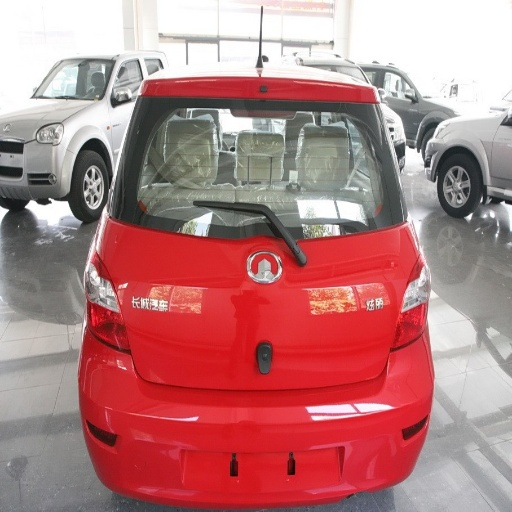back_bumper: (77, 309, 433, 511)
back_right_light: (394, 262, 429, 348)
front_glass: (36, 60, 108, 99)
front_left_door: (109, 59, 135, 134)
tailgate: (106, 239, 222, 384)
trunk: (109, 219, 414, 389), (283, 112, 367, 184)
